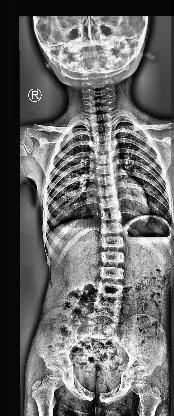Vertebrae: (92, 310, 121, 330), (96, 296, 125, 314), (99, 280, 125, 298), (98, 264, 125, 280), (101, 250, 126, 266), (100, 236, 126, 248), (101, 222, 123, 234), (101, 210, 122, 221), (99, 198, 119, 208), (98, 186, 118, 196), (97, 175, 115, 185), (97, 165, 115, 175), (95, 154, 113, 164), (94, 124, 112, 134), (94, 136, 112, 145), (94, 146, 112, 154)
